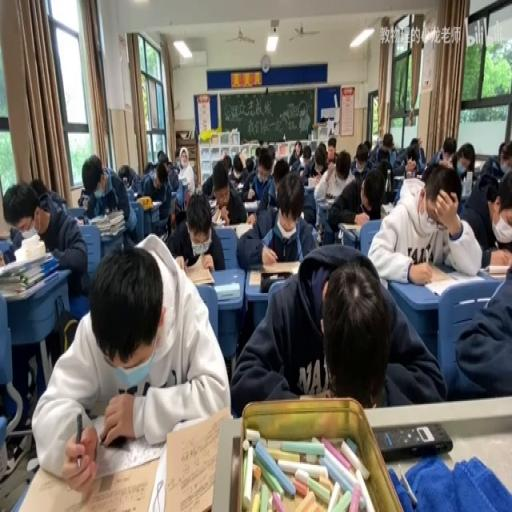calculator: (374, 422, 451, 461), (419, 260, 477, 294), (248, 259, 302, 286), (184, 260, 214, 284), (216, 216, 251, 232), (480, 263, 510, 279), (214, 282, 240, 300), (18, 226, 39, 240), (338, 220, 359, 232), (380, 202, 394, 215), (168, 186, 178, 204), (88, 214, 104, 224), (322, 195, 336, 206), (306, 176, 318, 188), (242, 201, 258, 209), (393, 172, 405, 181), (236, 180, 245, 190), (150, 199, 162, 206), (207, 199, 216, 208), (75, 216, 84, 225), (131, 190, 138, 198)
paper: (34, 232, 228, 490), (228, 245, 438, 415), (366, 161, 480, 283), (3, 179, 87, 300), (237, 170, 314, 268), (462, 154, 512, 260), (82, 155, 136, 245), (166, 189, 224, 270), (328, 162, 382, 240), (140, 158, 174, 233), (428, 136, 460, 176), (363, 131, 392, 169), (298, 142, 322, 184), (176, 148, 195, 199), (401, 142, 423, 176), (271, 156, 290, 195), (6, 228, 24, 256), (29, 176, 48, 202), (334, 150, 350, 180), (418, 162, 438, 184), (350, 148, 366, 175), (230, 154, 244, 180), (288, 141, 302, 165), (326, 135, 337, 165), (118, 165, 132, 185), (221, 154, 232, 175), (78, 186, 88, 205), (498, 140, 507, 160), (143, 160, 155, 174), (157, 148, 168, 163), (254, 146, 262, 166), (245, 155, 254, 172), (315, 155, 325, 169), (363, 138, 371, 154), (169, 162, 178, 174), (408, 138, 418, 148), (173, 149, 181, 161), (302, 154, 310, 164), (418, 138, 422, 148)
